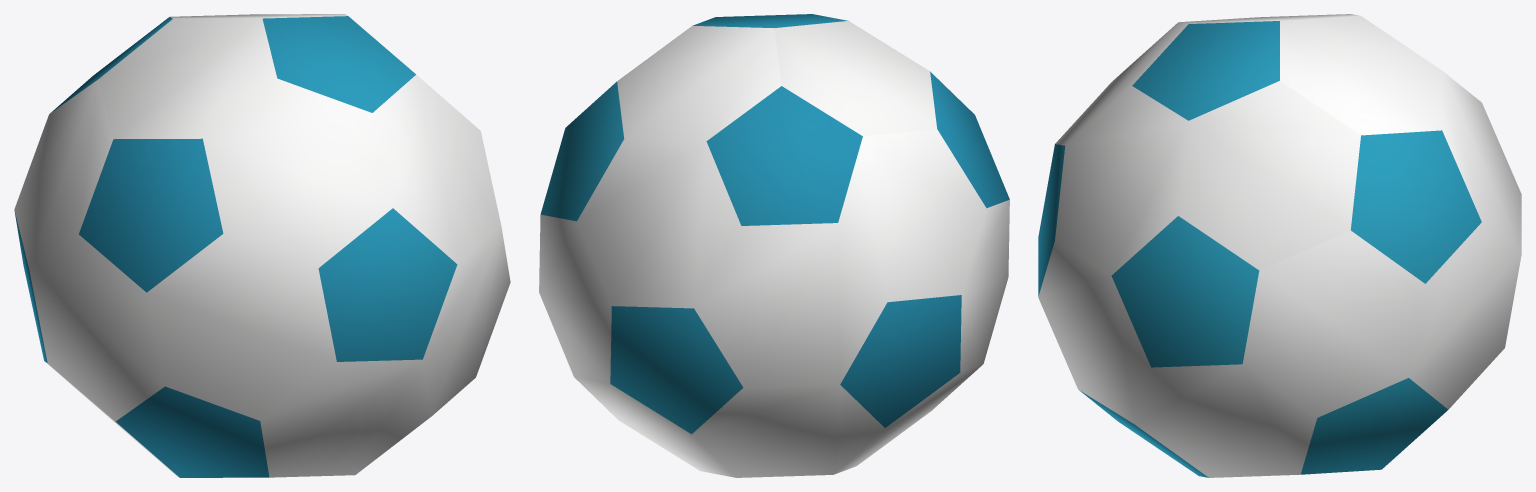
File: ENV_Soccer_Ball.fbx
The picture shows the model from 3 angles, left to right: view 1: azimuth 30°, elevation 25°; view 2: azimuth 150°, elevation 25°; view 3: azimuth 270°, elevation 25°; orthographic projection. The views are drawn at different scales.
Parts seen in each view (by area): view 1: ENV_Soccer_Ball; view 2: ENV_Soccer_Ball; view 3: ENV_Soccer_Ball.
Part boxes in pixels (<box>): ENV_Soccer_Ball: <box>14,14,510,477</box>; ENV_Soccer_Ball: <box>539,14,1009,477</box>; ENV_Soccer_Ball: <box>1038,14,1521,477</box>.
Bounding box in the file's own units: 0.4839 × 0.4905 × 0.4774.
